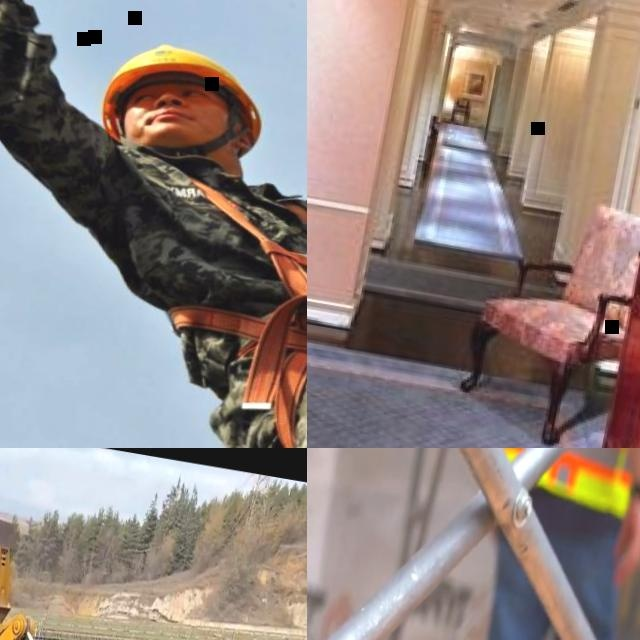NO-Mask: (126, 90, 251, 151)
NO-Safety Vest: (114, 153, 307, 441)
Person: (0, 0, 307, 448), (411, 448, 640, 640), (91, 31, 273, 160)
Safety Vest: (491, 448, 640, 511)
machinery: (0, 474, 307, 640)
